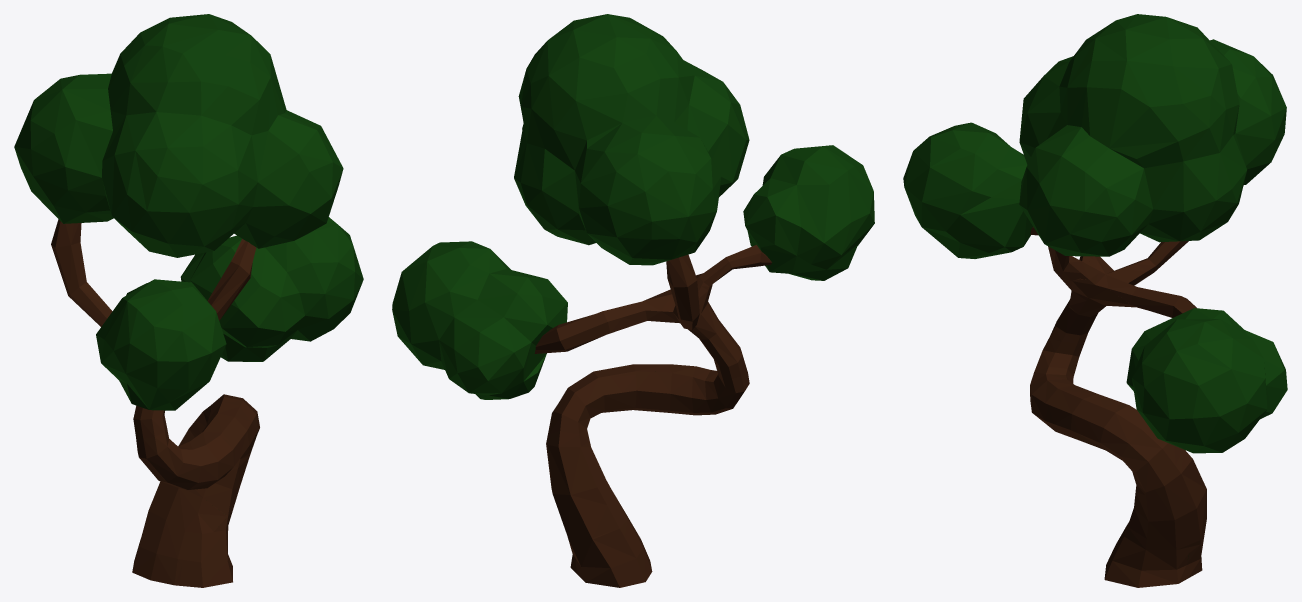
The model's file is Tree6_Destr.FBX.
3 renders of one model, left to right at view 1: azimuth 30°, elevation 25°; view 2: azimuth 150°, elevation 25°; view 3: azimuth 270°, elevation 25°, orthographic. The views are drawn at different scales.
Parts seen in each view (by area): view 1: LowPoly_Tree_06_lowpoly_tree_02_Mesh_005_Part_18, LowPoly_Tree_06_lowpoly_tree_02_Mesh_005_Part_5, LowPoly_Tree_06_lowpoly_tree_02_Mesh_005_Part_4, LowPoly_Tree_06_lowpoly_tree_02_Mesh_005_Part_8, LowPoly_Tree_06_lowpoly_tree_02_Mesh_005_Part_19, LowPoly_Tree_06_lowpoly_tree_02_Mesh_005_Part_3, LowPoly_Tree_06_lowpoly_tree_02_Mesh_005_Part_7, LowPoly_Tree_06_lowpoly_tree_02_Mesh_005_Part_13, LowPoly_Tree_06_lowpoly_tree_02_Mesh_005_Part_9_Part_1, LowPoly_Tree_06_lowpoly_tree_02_Mesh_005_Part_11_Part_5, LowPoly_Tree_06_lowpoly_tree_02_Mesh_005_Part_15, LowPoly_Tree_06_lowpoly_tree_02_Mesh_005_Part_11_Part_3 (+8 smaller); view 2: LowPoly_Tree_06_lowpoly_tree_02_Mesh_005_Part_5, LowPoly_Tree_06_lowpoly_tree_02_Mesh_005_Part_19, LowPoly_Tree_06_lowpoly_tree_02_Mesh_005_Part_14, LowPoly_Tree_06_lowpoly_tree_02_Mesh_005_Part_3, LowPoly_Tree_06_lowpoly_tree_02_Mesh_005_Part_12, LowPoly_Tree_06_lowpoly_tree_02_Mesh_005_Part_8, LowPoly_Tree_06_lowpoly_tree_02_Mesh_005_Part_20, LowPoly_Tree_06_lowpoly_tree_02_Mesh_005_Part_11_Part_2, LowPoly_Tree_06_lowpoly_tree_02_Mesh_005_Part_18, LowPoly_Tree_06_lowpoly_tree_02_Mesh_005_Part_9_Part_1, LowPoly_Tree_06_lowpoly_tree_02_Mesh_005_Part_11_Part_1, LowPoly_Tree_06_lowpoly_tree_02_Mesh_005_Part_11_Part_4 (+6 smaller); view 3: LowPoly_Tree_06_lowpoly_tree_02_Mesh_005_Part_5, LowPoly_Tree_06_lowpoly_tree_02_Mesh_005_Part_7, LowPoly_Tree_06_lowpoly_tree_02_Mesh_005_Part_20, LowPoly_Tree_06_lowpoly_tree_02_Mesh_005_Part_10, LowPoly_Tree_06_lowpoly_tree_02_Mesh_005_Part_13, LowPoly_Tree_06_lowpoly_tree_02_Mesh_005_Part_3, LowPoly_Tree_06_lowpoly_tree_02_Mesh_005_Part_17, LowPoly_Tree_06_lowpoly_tree_02_Mesh_005_Part_8, LowPoly_Tree_06_lowpoly_tree_02_Mesh_005_Part_11_Part_2, LowPoly_Tree_06_lowpoly_tree_02_Mesh_005_Part_11_Part_4, LowPoly_Tree_06_lowpoly_tree_02_Mesh_005_Part_12, LowPoly_Tree_06_lowpoly_tree_02_Mesh_005_Part_11_Part_3 (+10 smaller).
Part boxes in pixels (x1,y1,x2,y2): LowPoly_Tree_06_lowpoly_tree_02_Mesh_005_Part_18: (45, 92, 211, 257); LowPoly_Tree_06_lowpoly_tree_02_Mesh_005_Part_5: (180, 217, 363, 361); LowPoly_Tree_06_lowpoly_tree_02_Mesh_005_Part_4: (188, 121, 302, 320); LowPoly_Tree_06_lowpoly_tree_02_Mesh_005_Part_8: (109, 279, 221, 388); LowPoly_Tree_06_lowpoly_tree_02_Mesh_005_Part_19: (14, 48, 133, 200); LowPoly_Tree_06_lowpoly_tree_02_Mesh_005_Part_3: (125, 14, 245, 101); LowPoly_Tree_06_lowpoly_tree_02_Mesh_005_Part_7: (195, 32, 308, 129); LowPoly_Tree_06_lowpoly_tree_02_Mesh_005_Part_13: (261, 120, 343, 237); LowPoly_Tree_06_lowpoly_tree_02_Mesh_005_Part_9_Part_1: (136, 424, 239, 489); LowPoly_Tree_06_lowpoly_tree_02_Mesh_005_Part_11_Part_5: (145, 485, 227, 564); LowPoly_Tree_06_lowpoly_tree_02_Mesh_005_Part_15: (40, 199, 113, 324); LowPoly_Tree_06_lowpoly_tree_02_Mesh_005_Part_11_Part_3: (179, 511, 232, 587); LowPoly_Tree_06_lowpoly_tree_02_Mesh_005_Part_5: (392, 241, 640, 399); LowPoly_Tree_06_lowpoly_tree_02_Mesh_005_Part_19: (599, 70, 721, 243); LowPoly_Tree_06_lowpoly_tree_02_Mesh_005_Part_14: (690, 187, 874, 290); LowPoly_Tree_06_lowpoly_tree_02_Mesh_005_Part_3: (531, 14, 681, 114); LowPoly_Tree_06_lowpoly_tree_02_Mesh_005_Part_12: (537, 147, 697, 265); LowPoly_Tree_06_lowpoly_tree_02_Mesh_005_Part_8: (761, 145, 874, 221); LowPoly_Tree_06_lowpoly_tree_02_Mesh_005_Part_20: (514, 64, 578, 200); LowPoly_Tree_06_lowpoly_tree_02_Mesh_005_Part_11_Part_2: (546, 431, 611, 545); LowPoly_Tree_06_lowpoly_tree_02_Mesh_005_Part_18: (683, 60, 749, 283); LowPoly_Tree_06_lowpoly_tree_02_Mesh_005_Part_9_Part_1: (638, 362, 749, 415); LowPoly_Tree_06_lowpoly_tree_02_Mesh_005_Part_11_Part_1: (571, 538, 652, 587); LowPoly_Tree_06_lowpoly_tree_02_Mesh_005_Part_11_Part_4: (547, 369, 638, 440); LowPoly_Tree_06_lowpoly_tree_02_Mesh_005_Part_5: (1126, 293, 1287, 453); LowPoly_Tree_06_lowpoly_tree_02_Mesh_005_Part_7: (1060, 41, 1183, 169); LowPoly_Tree_06_lowpoly_tree_02_Mesh_005_Part_20: (1148, 76, 1245, 212); LowPoly_Tree_06_lowpoly_tree_02_Mesh_005_Part_10: (1081, 169, 1212, 256); LowPoly_Tree_06_lowpoly_tree_02_Mesh_005_Part_13: (1019, 117, 1100, 256); LowPoly_Tree_06_lowpoly_tree_02_Mesh_005_Part_3: (1081, 14, 1233, 95); LowPoly_Tree_06_lowpoly_tree_02_Mesh_005_Part_17: (905, 182, 1006, 256); LowPoly_Tree_06_lowpoly_tree_02_Mesh_005_Part_8: (903, 122, 1022, 188); LowPoly_Tree_06_lowpoly_tree_02_Mesh_005_Part_11_Part_2: (1127, 449, 1206, 552); LowPoly_Tree_06_lowpoly_tree_02_Mesh_005_Part_11_Part_4: (1078, 401, 1182, 495); LowPoly_Tree_06_lowpoly_tree_02_Mesh_005_Part_12: (1235, 81, 1286, 204); LowPoly_Tree_06_lowpoly_tree_02_Mesh_005_Part_11_Part_3: (1104, 527, 1189, 587).
Size of the model in its own units: 6.48 by 9.44 by 6.
